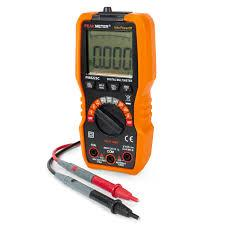multimeter: (45, 2, 156, 225)
